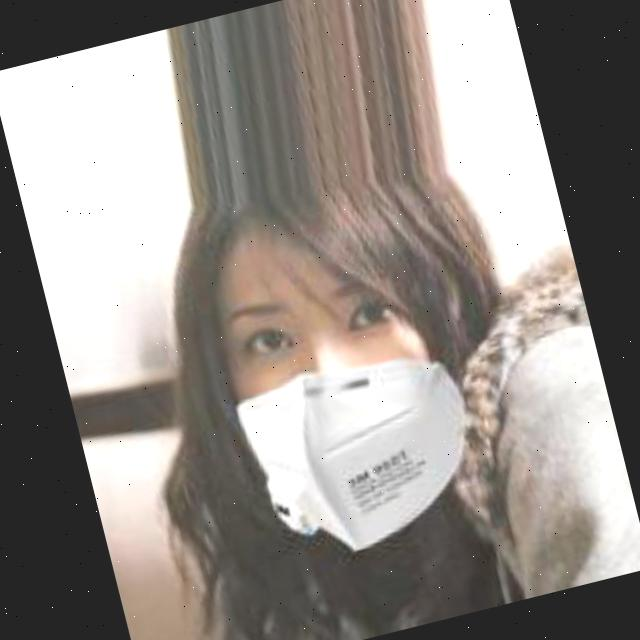suspicion: (176, 174, 524, 525)
